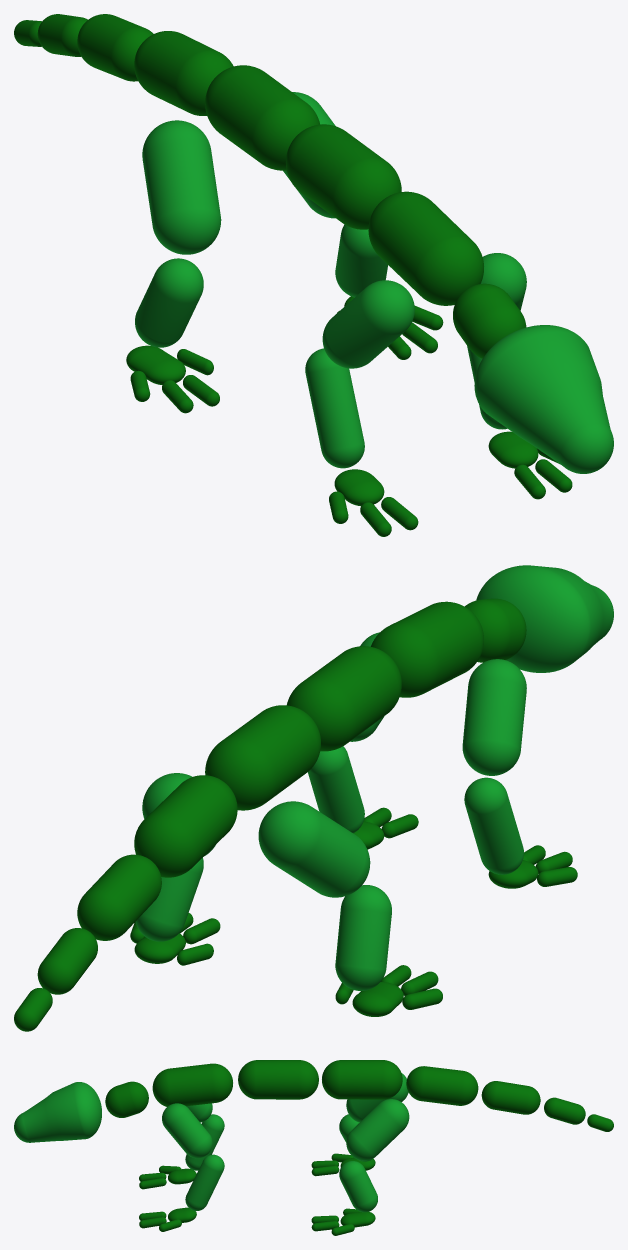
Rendered from lizard.fbx.
3 renders of one model, top to bottom at view 1: azimuth 30°, elevation 25°; view 2: azimuth 150°, elevation 25°; view 3: azimuth 270°, elevation 25°, orthographic. The views are drawn at different scales.
Parts seen in each view (by area): view 1: Head, Spine2, BR_THIGH, Spine3, Spine4, FR_THIGH, Spine5, FR_SHIN, BR_SHIN, FR_FOOT.001, Spine1, Spine6 (+6 smaller); view 2: Head, Spine4, Spine3, BR_THIGH, Spine2, Spine5, FR_THIGH, BR_SHIN, Spine6, FR_SHIN, FL_SHIN, FR_FOOT.001 (+8 smaller); view 3: Head, Spine3, Spine4, Spine2, BL_THIGH, Spine5, FL_THIGH, Spine6, BL_SHIN, FL_SHIN, Spine1, FL_FOOT.001 (+9 smaller).
Part boxes in pixels (box(x1,y1,x2,y2)): Head: box(474, 325, 613, 473); Spine2: box(368, 191, 483, 305); BR_THIGH: box(142, 120, 221, 254); Spine3: box(286, 124, 401, 229); Spine4: box(205, 65, 320, 170); FR_THIGH: box(322, 280, 414, 368); Spine5: box(134, 31, 233, 115); FR_SHIN: box(305, 348, 364, 468); BR_SHIN: box(135, 258, 203, 347); FR_FOOT.001: box(126, 345, 219, 413); Spine1: box(453, 283, 526, 358); Spine6: box(77, 14, 153, 81); Head: box(476, 565, 613, 672); Spine4: box(205, 705, 320, 810); Spine3: box(287, 646, 401, 751); BR_THIGH: box(258, 801, 370, 897); Spine2: box(371, 601, 483, 697); Spine5: box(134, 775, 237, 877); FR_THIGH: box(462, 659, 526, 775); BR_SHIN: box(335, 885, 391, 990); Spine6: box(77, 854, 161, 940); FR_SHIN: box(464, 777, 523, 874); FL_SHIN: box(308, 746, 364, 833); FR_FOOT.001: box(335, 965, 442, 1016); Head: box(14, 1082, 101, 1142); Spine3: box(238, 1060, 318, 1099); Spine4: box(322, 1060, 402, 1099); Spine2: box(152, 1063, 232, 1106); BL_THIGH: box(346, 1099, 409, 1160); Spine5: box(406, 1066, 478, 1105); FL_THIGH: box(162, 1103, 212, 1158); Spine6: box(481, 1081, 540, 1114); BL_SHIN: box(339, 1161, 377, 1212); FL_SHIN: box(185, 1154, 224, 1210); Spine1: box(105, 1081, 148, 1117); FL_FOOT.001: box(311, 1208, 375, 1235).
Bounding box in the file's own units: 0.9985 × 0.8587 × 3.26.
